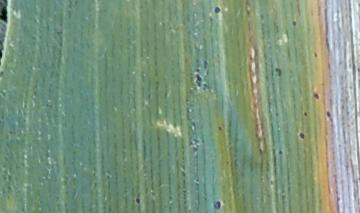tarspot: (193, 72, 203, 88), (212, 199, 223, 210), (273, 66, 283, 78), (213, 5, 221, 15), (311, 91, 319, 100), (291, 17, 297, 29), (324, 109, 331, 119), (134, 196, 141, 205), (297, 132, 304, 140), (216, 124, 223, 132), (302, 109, 308, 118), (312, 51, 319, 58), (276, 149, 283, 155)
